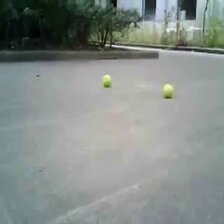tennis: (102, 72, 112, 88), (164, 84, 173, 97)
